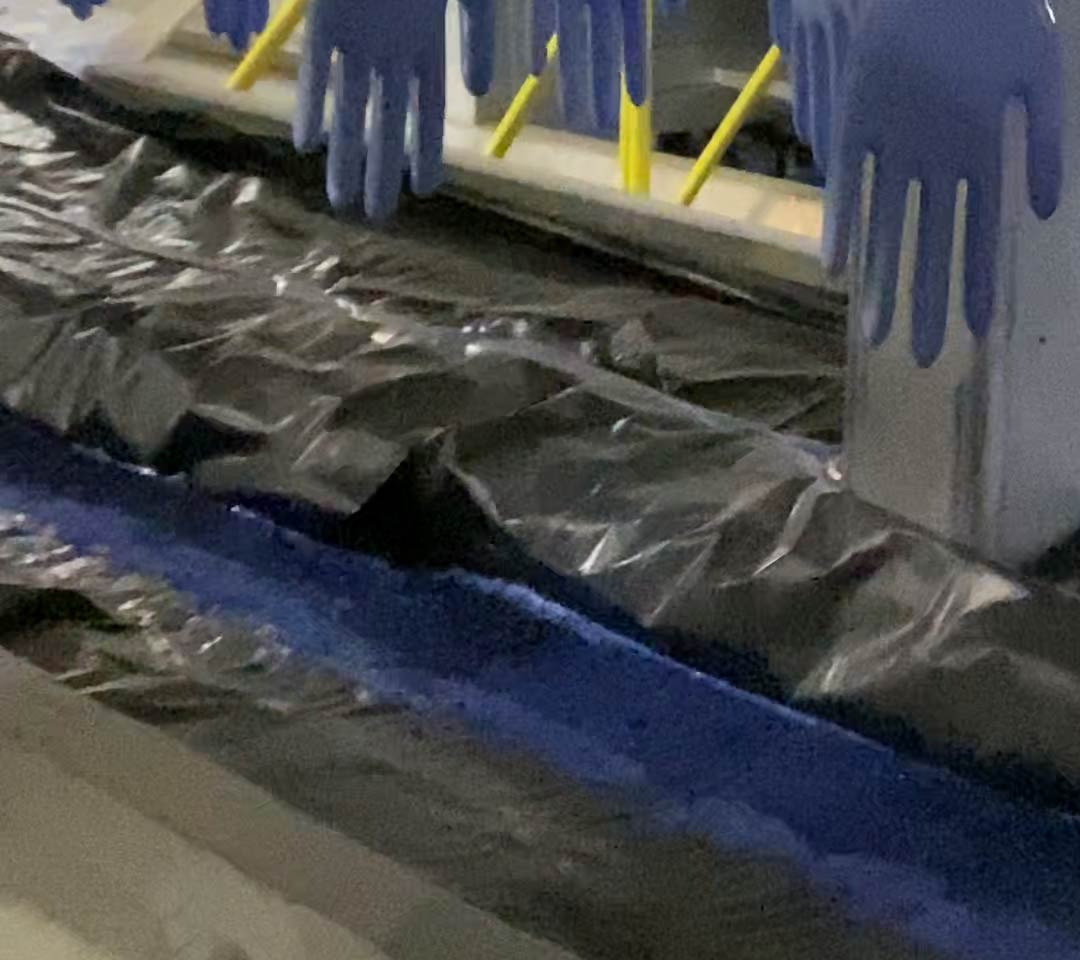glove: (819, 1, 1065, 367), (289, 1, 450, 225)
